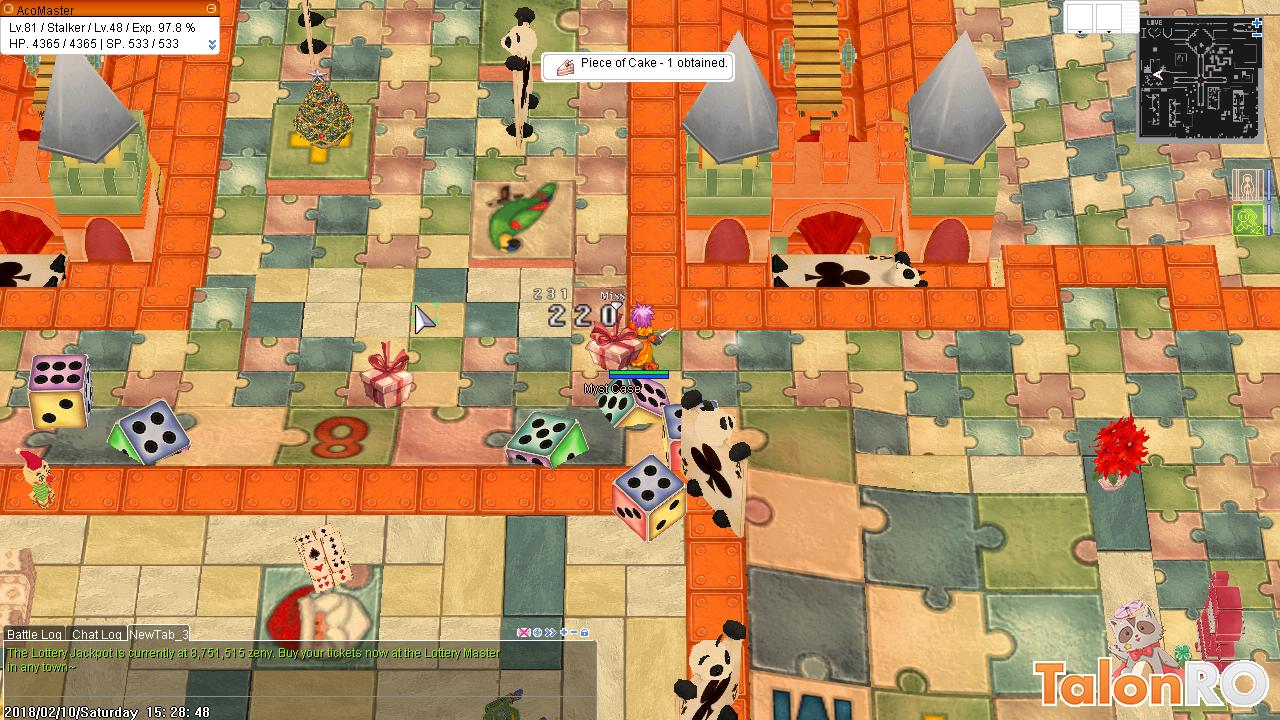myst_case: (582, 306, 644, 383), (358, 339, 419, 414)
